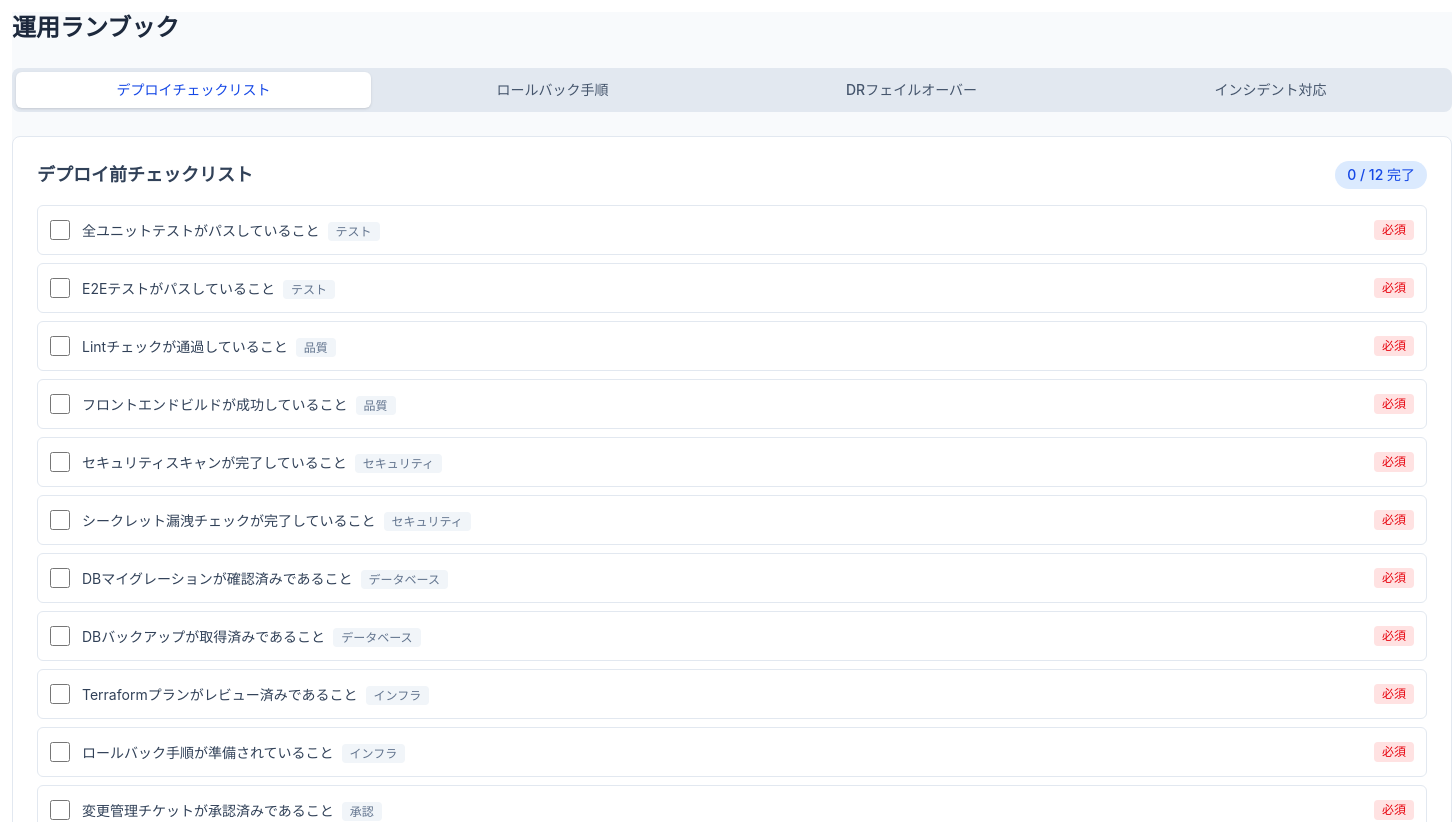
Scenario: RunbookPage tab navigation › clicking 'インシデント対応' tab shows content with heading 'インシデント対応プレイブック'
Click the button "インシデント対応" at (1270, 90), box 1093,72 -> 1448,108
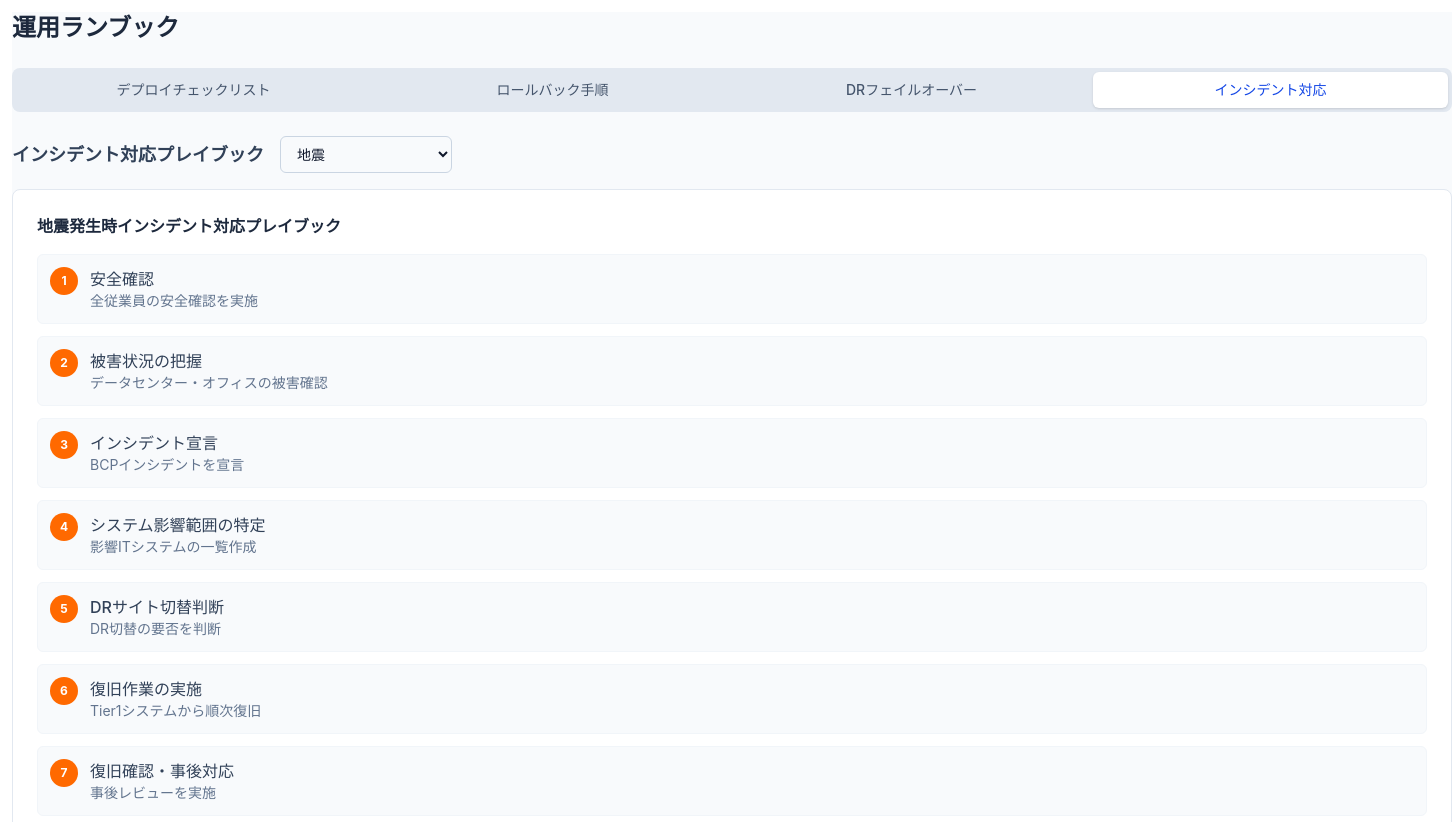
Result: the heading "インシデント対応プレイブック" is shown at 12,140 -> 264,168
